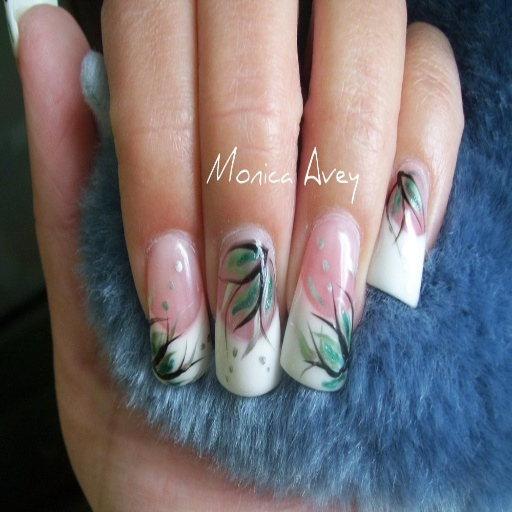hand: (24, 24, 503, 467)
